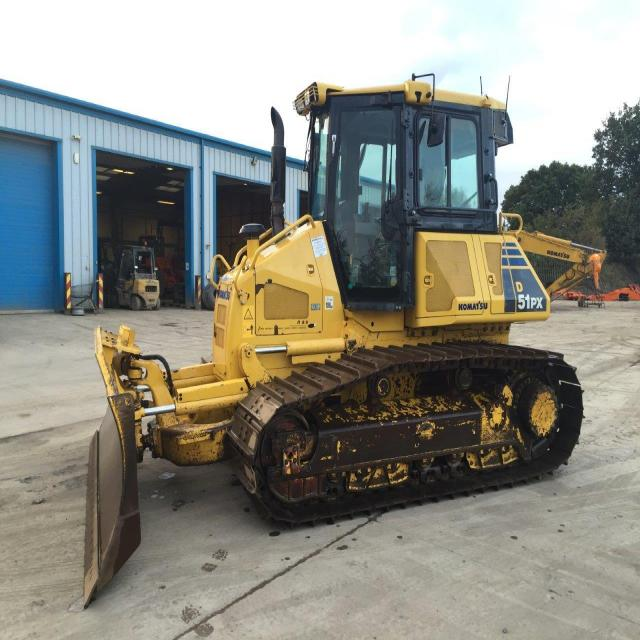buldozerpayloadergrader: (62, 57, 582, 606)
